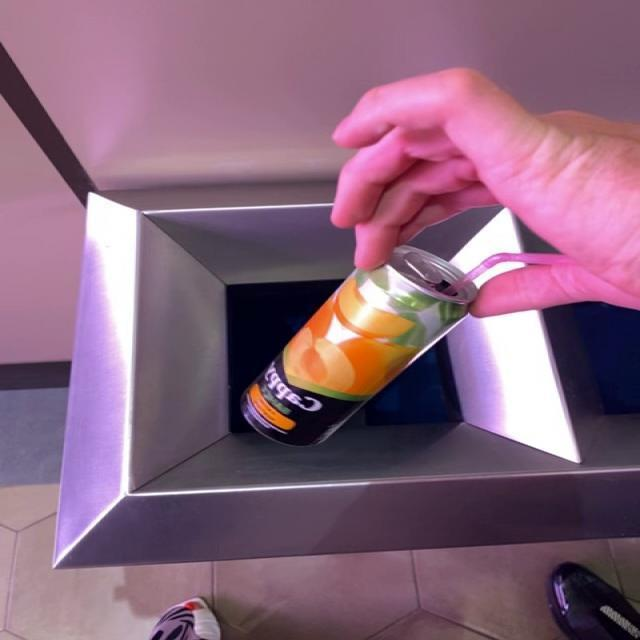Bin: (53, 184, 637, 568)
Metal: (241, 246, 477, 446)
